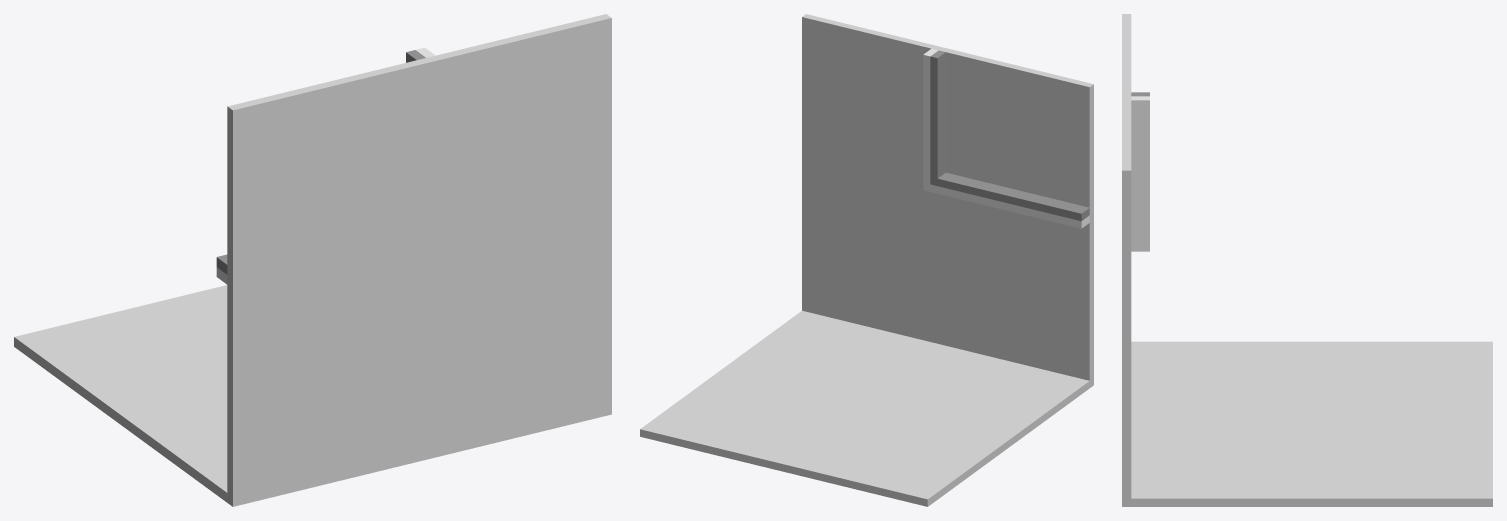
File: wall_light2.obj
The picture shows the model from 3 angles, left to right: view 1: azimuth 30°, elevation 25°; view 2: azimuth 150°, elevation 25°; view 3: azimuth 270°, elevation 25°; orthographic projection. The views are drawn at different scales.
Size of the model in its own units: 4 by 4 by 4.
